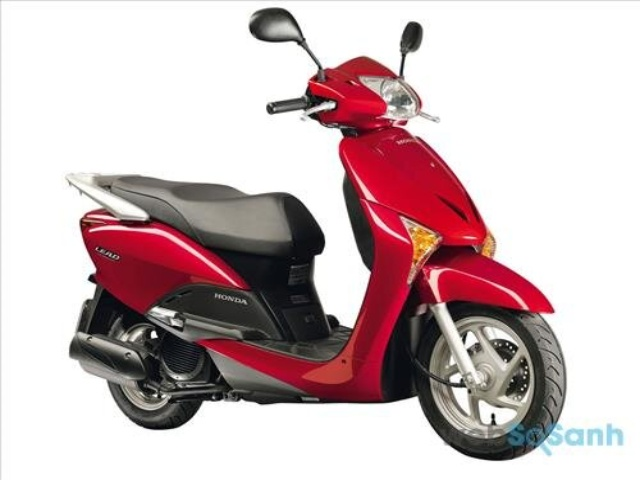Xe_may: (64, 4, 569, 462)
